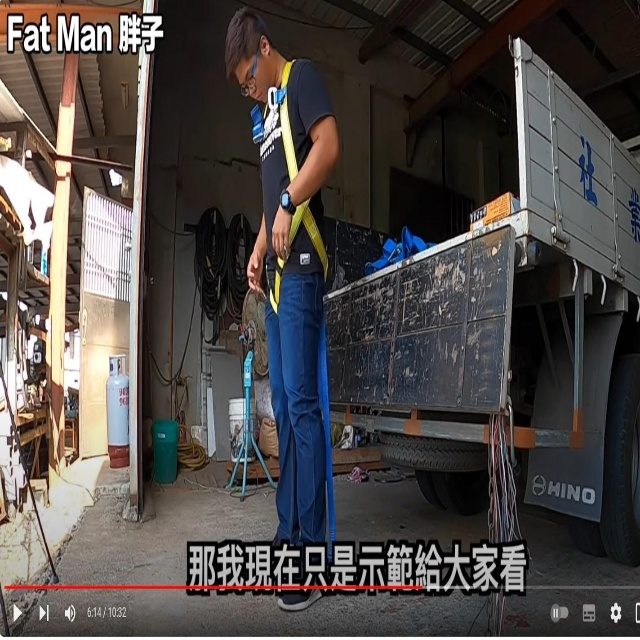Arnes_seguridad: (262, 57, 331, 317)
